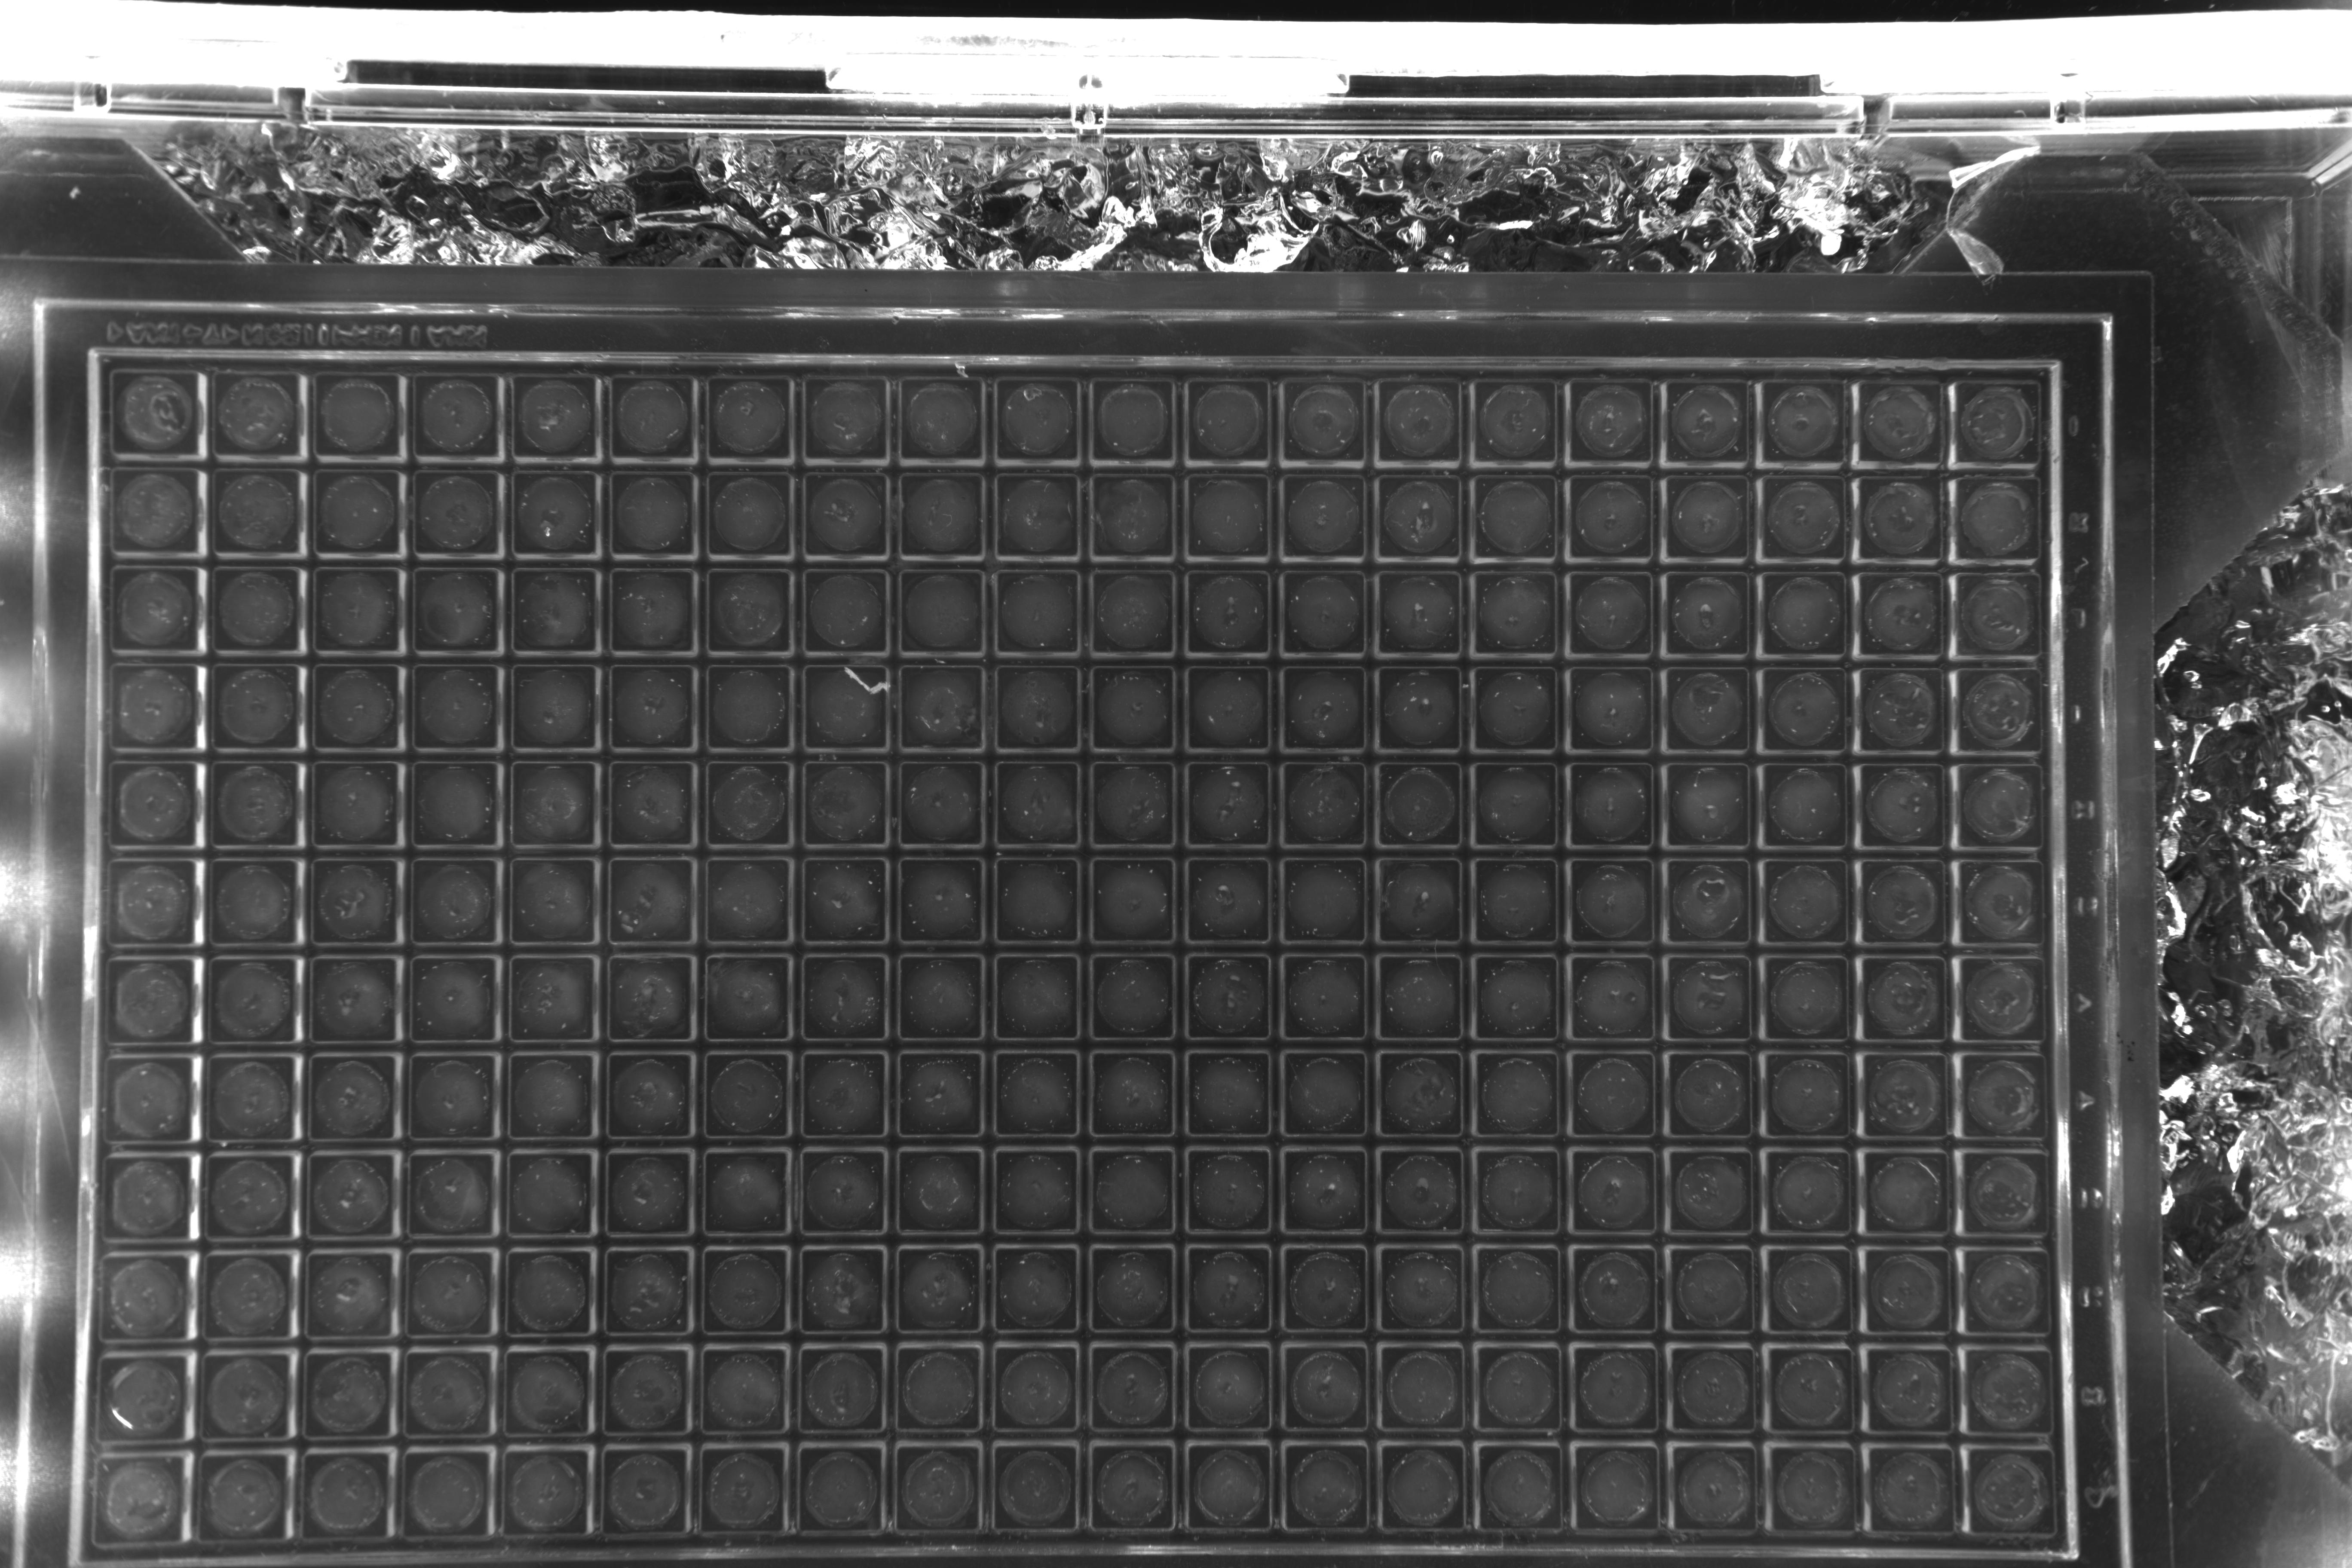WM_well: (203, 651, 292, 738), (395, 945, 485, 1032), (1176, 850, 1265, 938), (303, 555, 390, 642), (593, 847, 681, 934), (595, 556, 682, 644), (595, 653, 682, 740), (688, 1141, 775, 1228), (693, 268, 780, 355), (787, 947, 875, 1034), (983, 850, 1071, 938), (1078, 1141, 1165, 1228), (1080, 464, 1167, 551), (1176, 269, 1263, 357), (1176, 1241, 1263, 1328), (1272, 367, 1360, 455), (1274, 754, 1361, 842), (1372, 1340, 1459, 1428), (1564, 656, 1652, 744), (1568, 1146, 1655, 1234), (1766, 1347, 1853, 1435), (1960, 756, 2047, 843), (2061, 1053, 2149, 1141)
